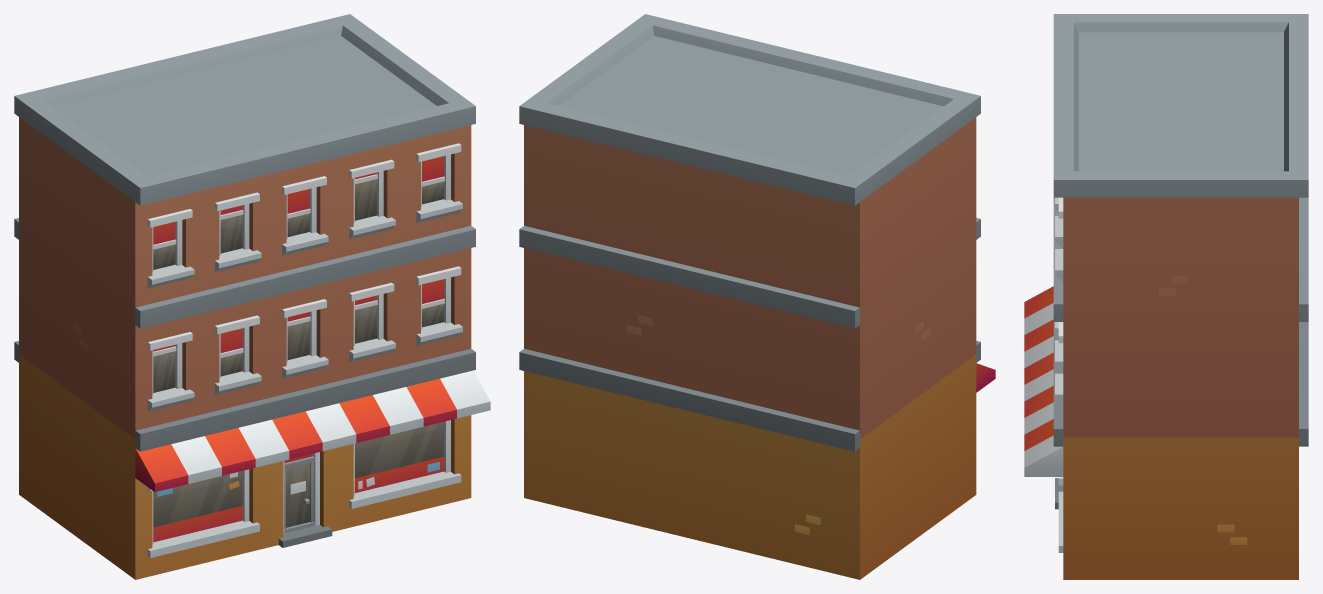
File: building_E_withoutBase.obj
3 views of the same model, side by side, from view 1: azimuth 30°, elevation 25°; view 2: azimuth 150°, elevation 25°; view 3: azimuth 270°, elevation 25° (orthographic).
Size of the model in its own units: 2.01 by 2.25 by 1.45.
1 material, 1 textured.
